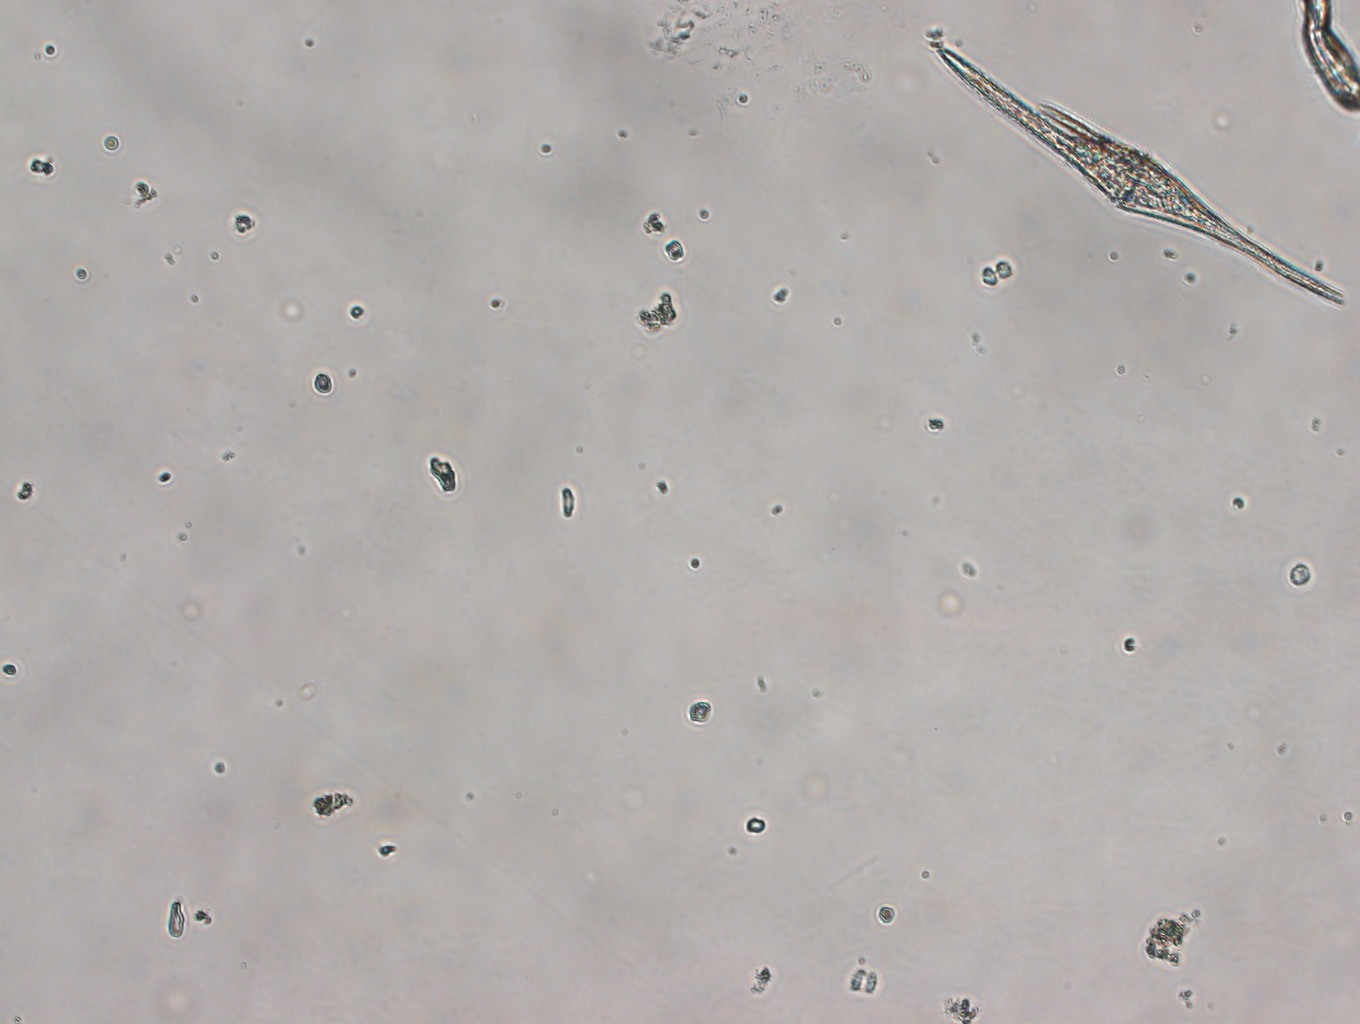ceratium furca: (928, 42, 1347, 312)
